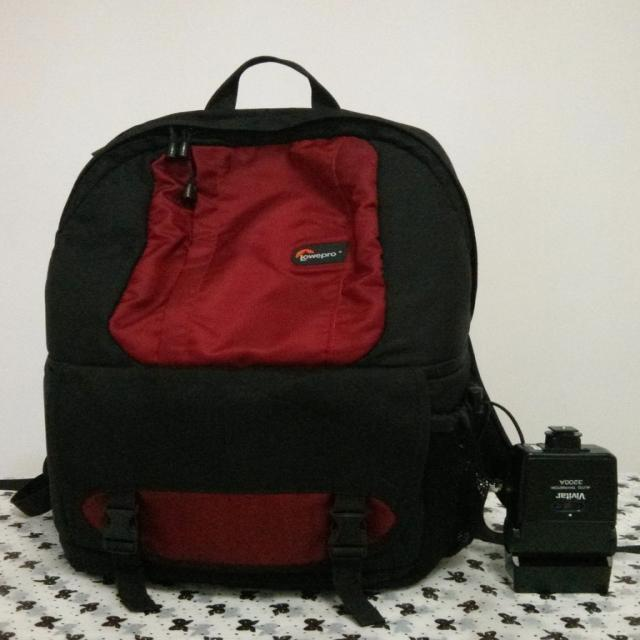backpack: (51, 108, 502, 600)
